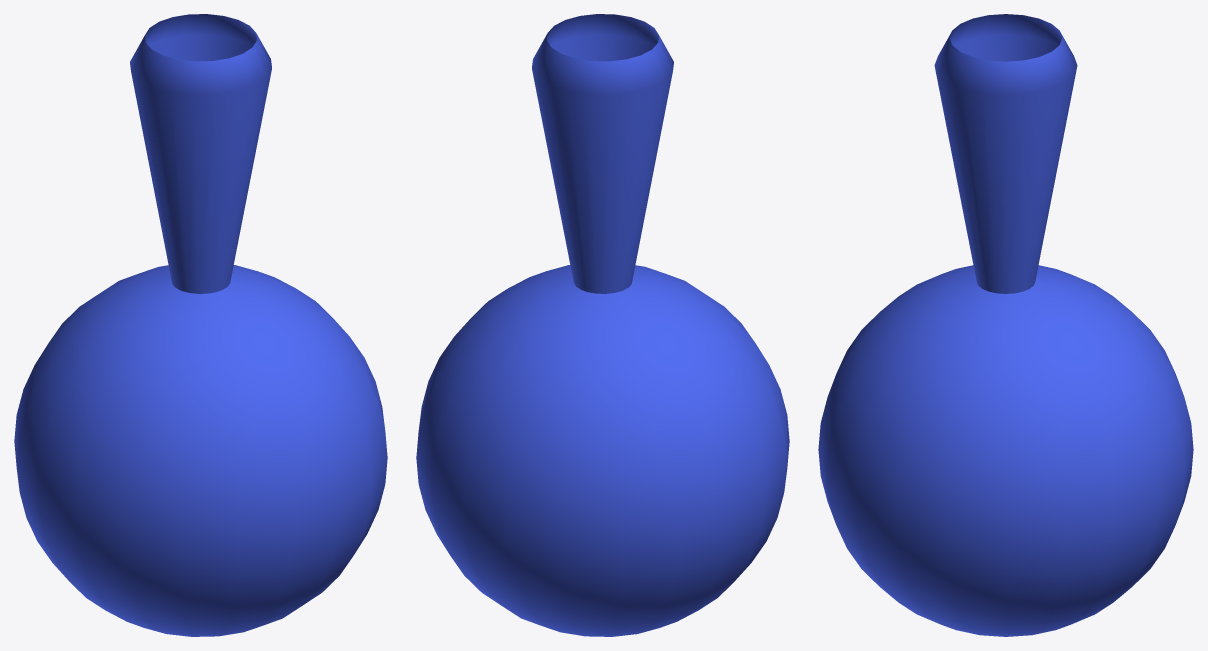
Rendered from Potion.fbx.
3 views of the same model, side by side, from view 1: azimuth 30°, elevation 25°; view 2: azimuth 150°, elevation 25°; view 3: azimuth 270°, elevation 25° (orthographic).
Visible parts, largest first — view 1: Potion; view 2: Potion; view 3: Potion.
Boxes of the visible parts, <box> form: Potion: <box>14,14,387,636</box>; Potion: <box>416,14,789,636</box>; Potion: <box>818,14,1193,636</box>.
Bounding box in the file's own units: 121 × 208 × 121.
